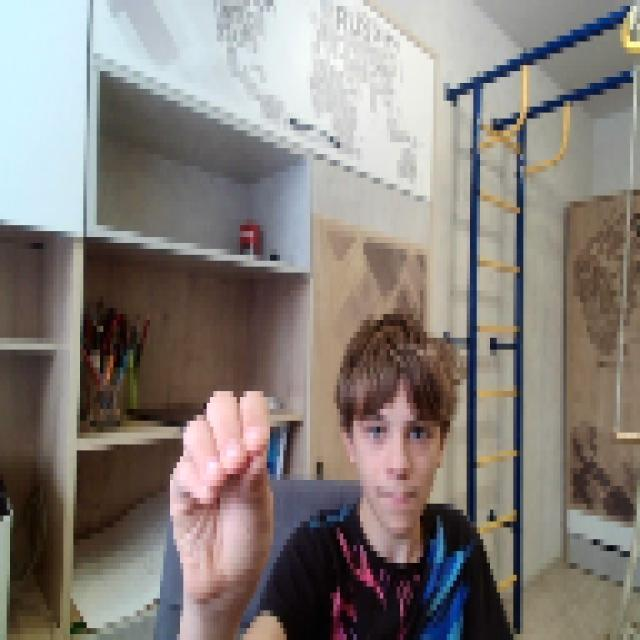left_click: (163, 379, 270, 599)
